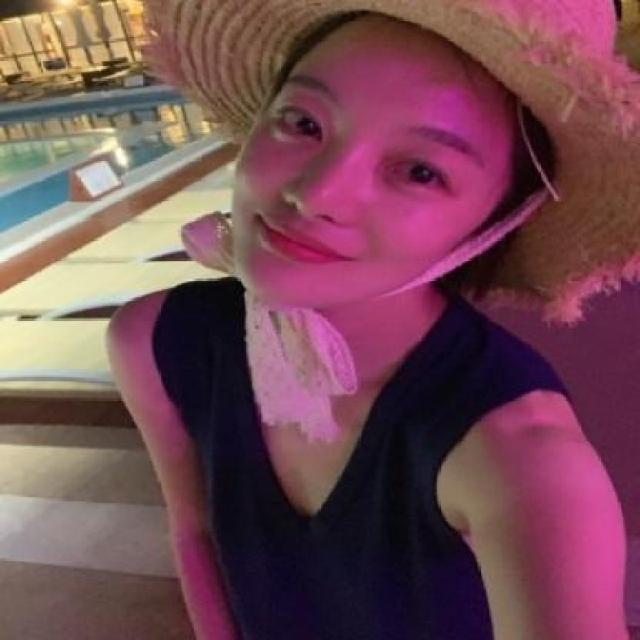hat: (137, 0, 639, 327)
